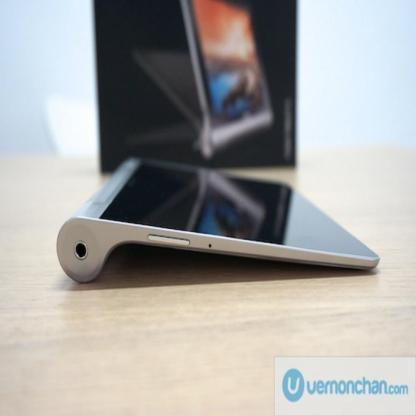board: (58, 155, 380, 282), (134, 0, 275, 159)
